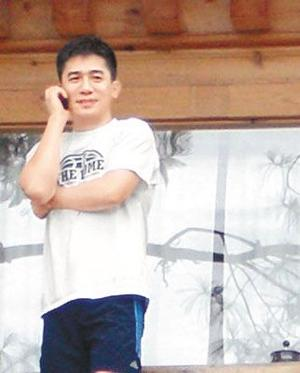person: (18, 36, 160, 373)
